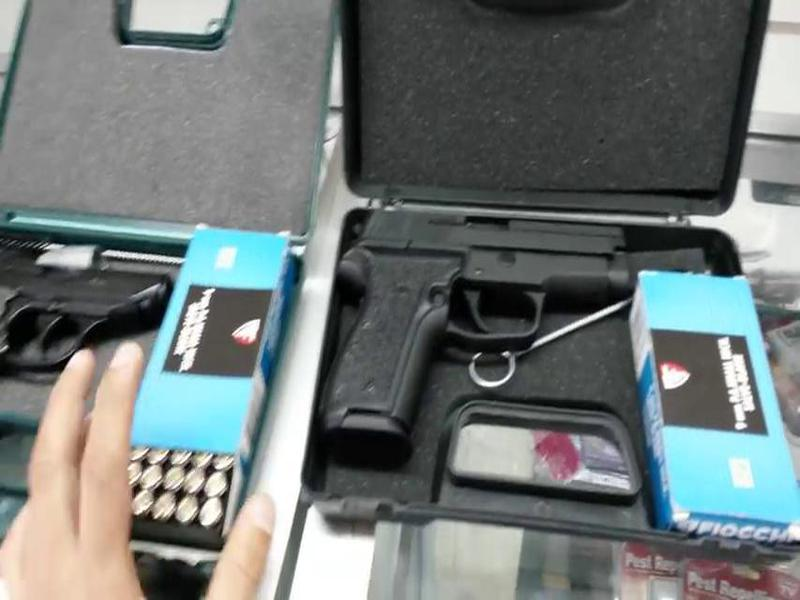Pistola: (293, 190, 651, 470)
